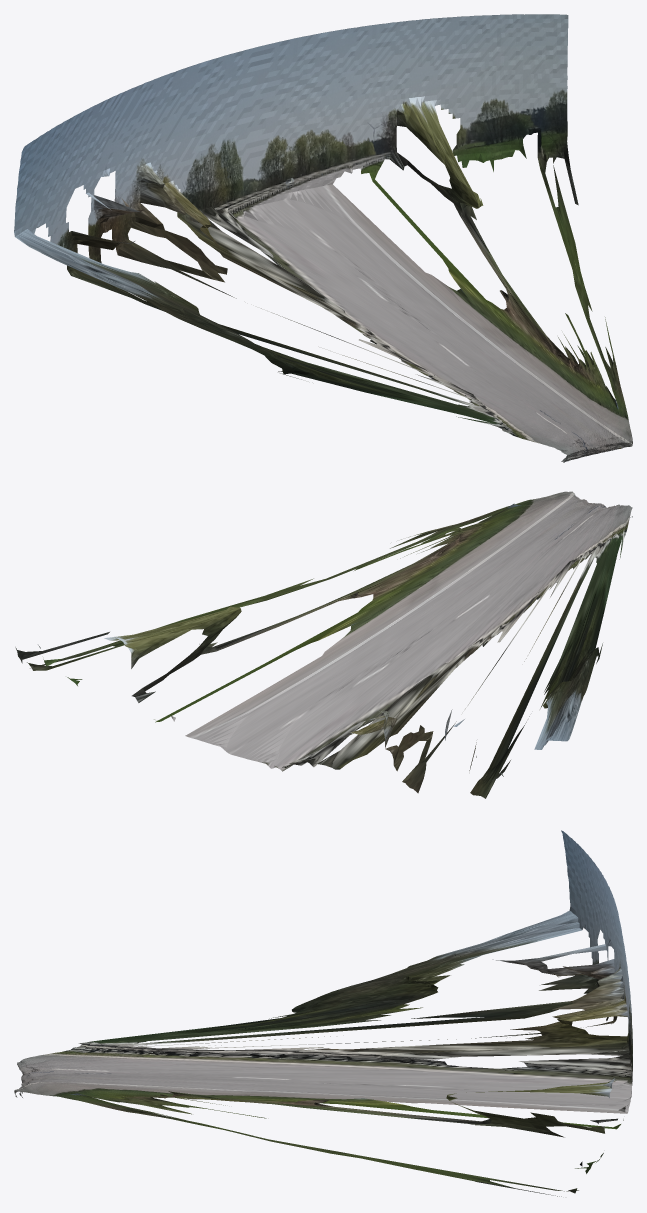
The picture shows the model from 3 angles, top to bottom: view 1: azimuth 30°, elevation 25°; view 2: azimuth 150°, elevation 25°; view 3: azimuth 270°, elevation 25°; orthographic projection. The views are drawn at different scales.
Parts seen in each view (by area): view 1: defaultobject; view 2: defaultobject; view 3: defaultobject.
Boxes of the visible parts, x1=… form: defaultobject: x1=14, y1=14, x2=632, y2=462; defaultobject: x1=15, y1=491, x2=632, y2=798; defaultobject: x1=14, y1=830, x2=632, y2=1196.
Size of the model in its own units: 41.14 by 12.36 by 44.54.
Materials: 1 (1 with a texture image).
